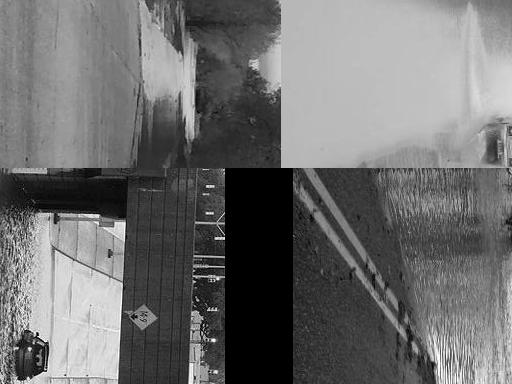road_waterlogging: (281, 0, 512, 120), (414, 168, 508, 273), (0, 224, 60, 384), (453, 282, 512, 384), (136, 35, 177, 168), (181, 39, 207, 139)
